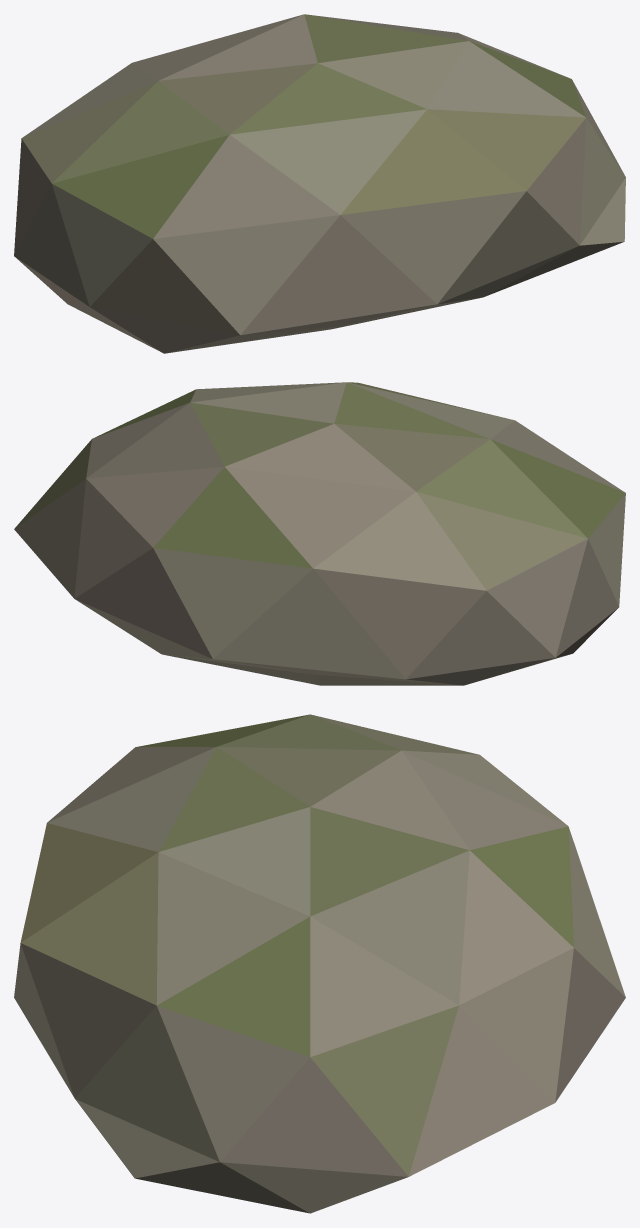
File: env_lime_c.glb
The picture shows the model from 3 angles, top to bottom: view 1: azimuth 30°, elevation 25°; view 2: azimuth 150°, elevation 25°; view 3: azimuth 270°, elevation 25°; orthographic projection. The views are drawn at different scales.
Parts seen in each view (by area): view 1: env_lime_c; view 2: env_lime_c; view 3: env_lime_c.
Part boxes in pixels (x1,y1,x2,y2): env_lime_c: (14,14,625,353); env_lime_c: (14,382,625,685); env_lime_c: (14,714,625,1213).
Bounding box in the file's own units: 4.08 × 1.47 × 3.09.
